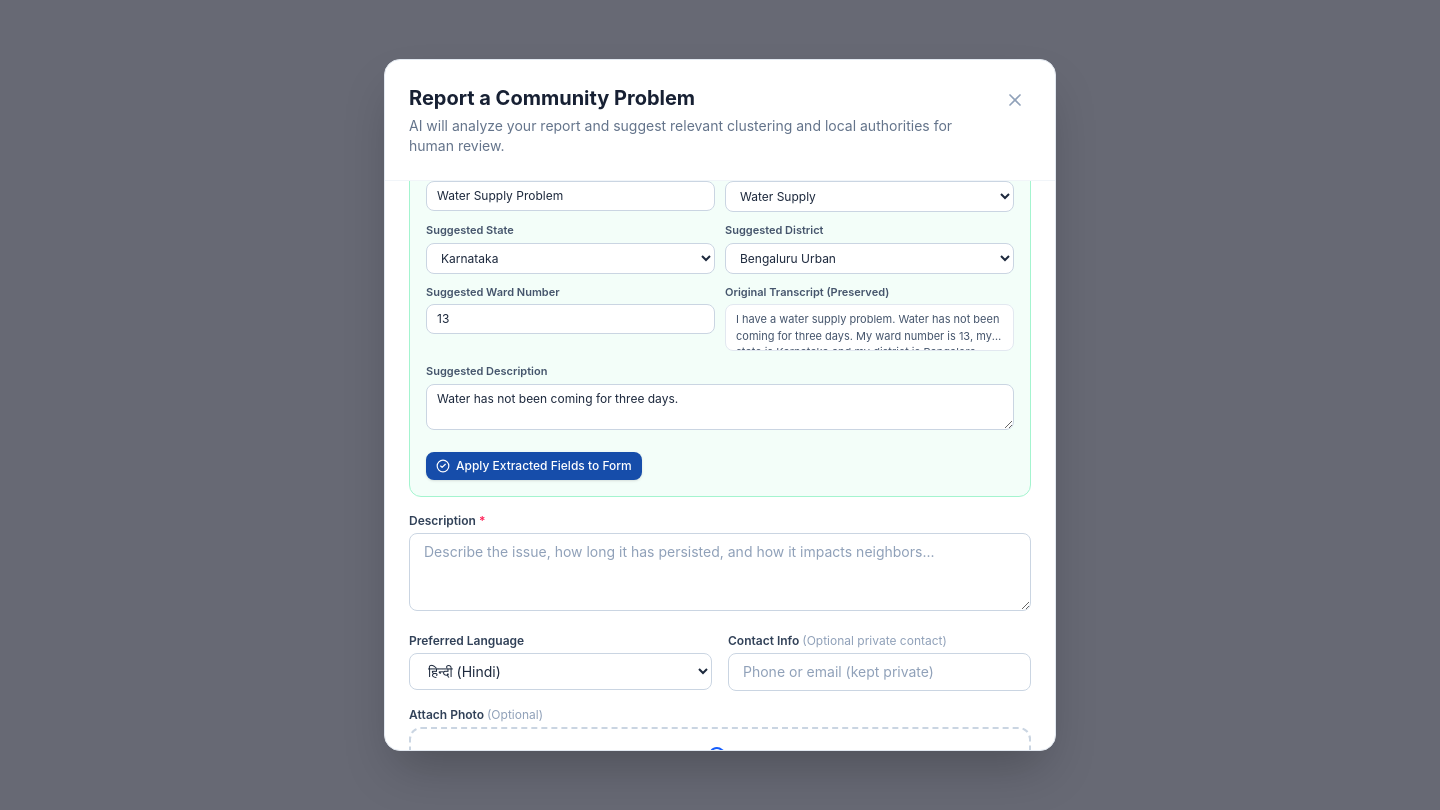
Test case: Structured Extraction, Retranscription & App-Wide Language Sync › extracts structured fields from spoken complaint, supports ambiguous location resolution, re-transcribe, and submits exact values without auto-submitting
This screenshot has width=1440, height=810.
Earlier steps of the test are not shown.
Later steps or results of the test are not shown.
(page scrolled)
Expected: the dropdown named "Extracted district" shows "Bengaluru Urban", [725,243,1014,274]
Click the button "Apply Extracted Fields to Form": coordinates (534, 466) [426,452,642,480]
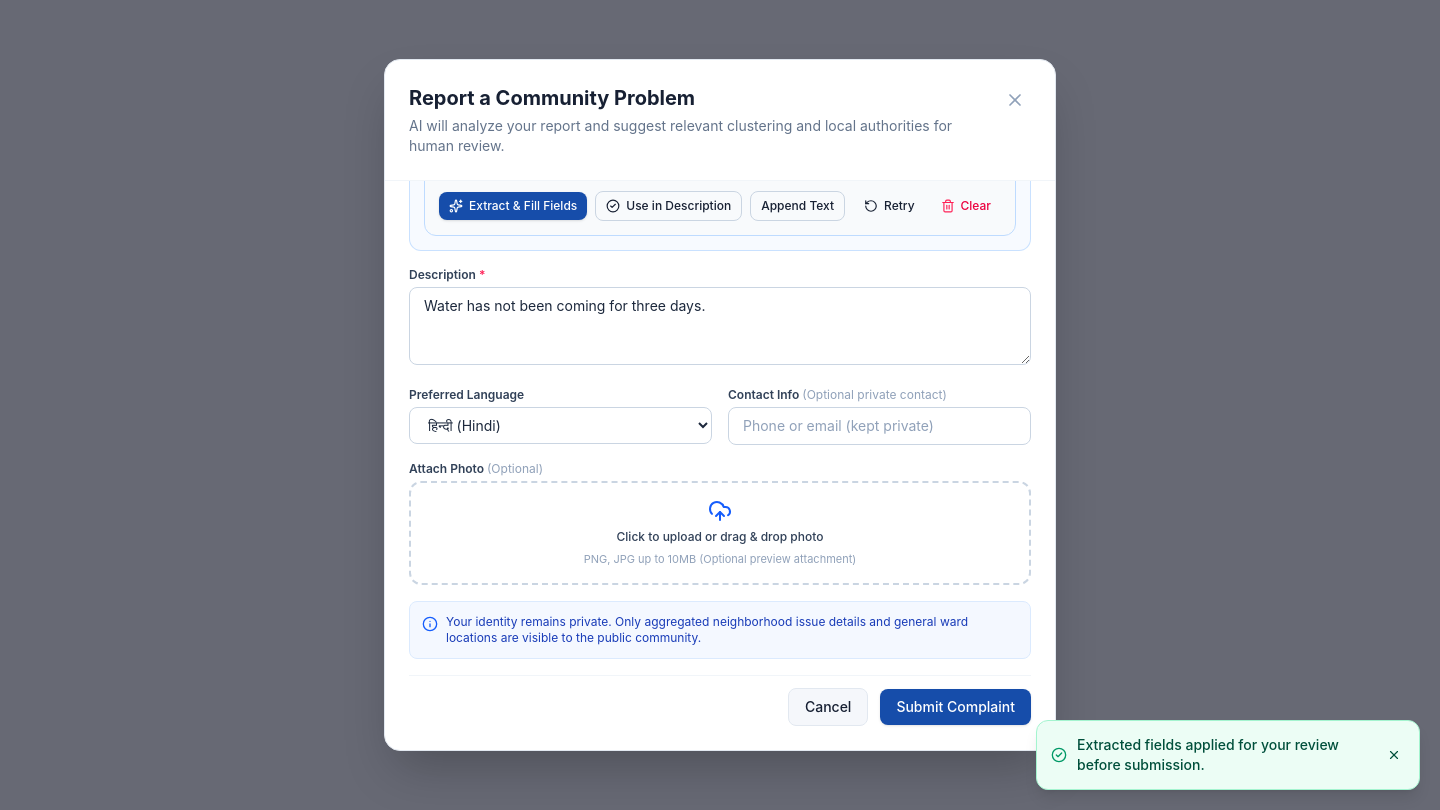
Expected: the text box with placeholder "Describe the issue" holds "Water has not been coming for three days.", [409,287,1031,365]
